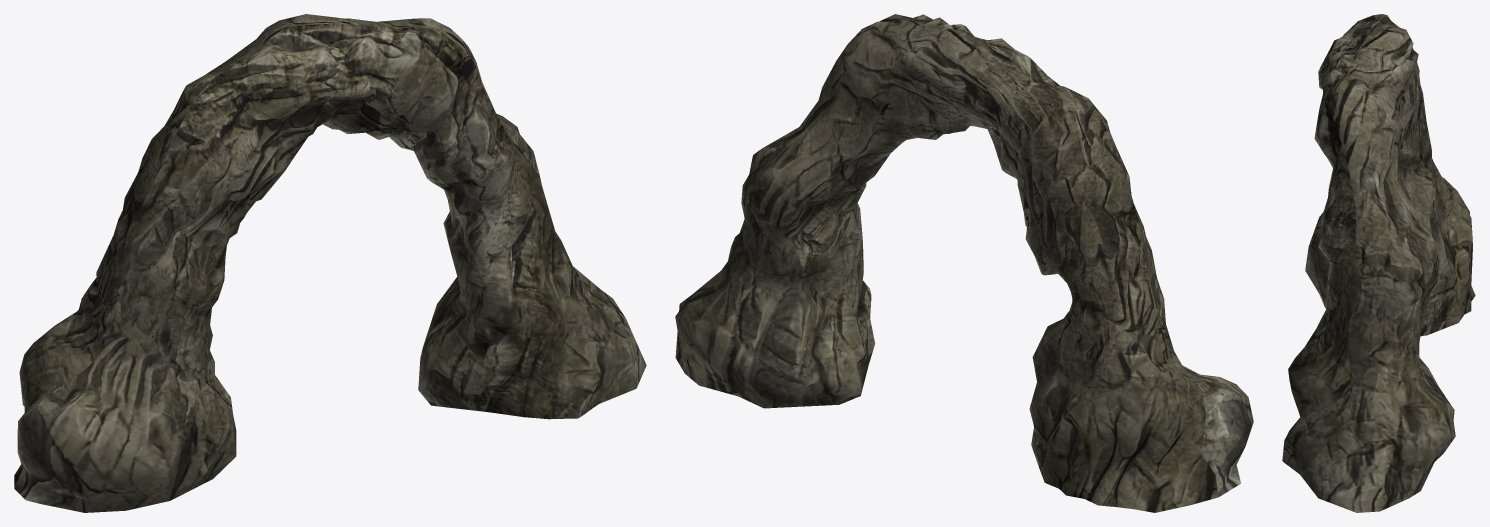
The model's file is MEP_Cliff_04.fbx.
The picture shows the model from 3 angles, left to right: view 1: azimuth 30°, elevation 25°; view 2: azimuth 150°, elevation 25°; view 3: azimuth 270°, elevation 25°; orthographic projection. The views are drawn at different scales.
Visible parts, largest first — view 1: MEP_Desert_Cliff_04_N; view 2: MEP_Desert_Cliff_04_N; view 3: MEP_Desert_Cliff_04_N.
Boxes of the visible parts, x1,y1,x2,y2 form: MEP_Desert_Cliff_04_N: [14, 14, 646, 512]; MEP_Desert_Cliff_04_N: [675, 14, 1253, 512]; MEP_Desert_Cliff_04_N: [1282, 14, 1475, 512].
Size of what is drawn, in the model's own units: 2734 by 1799 by 889.
1 material, 1 textured.
